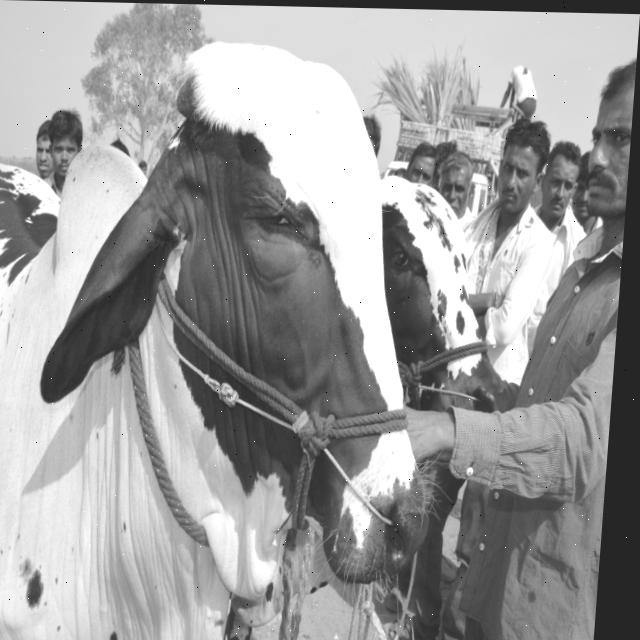Cow: (71, 79, 428, 602)
